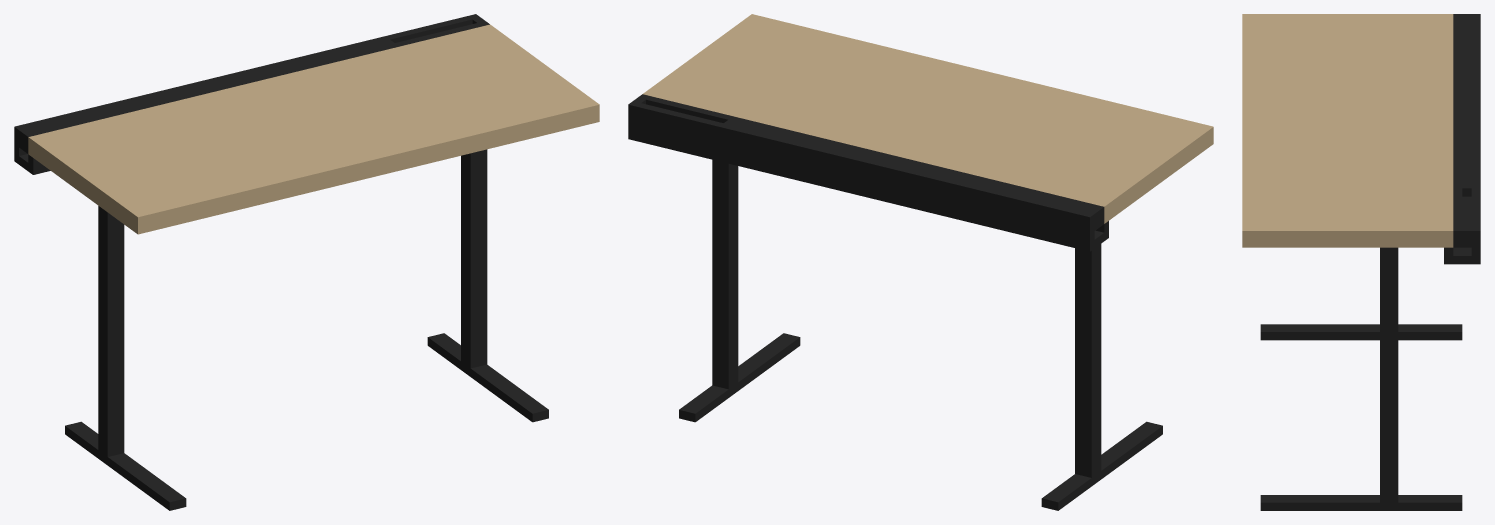
Rendered from desk.obj.
3 renders of one model, left to right at view 1: azimuth 30°, elevation 25°; view 2: azimuth 150°, elevation 25°; view 3: azimuth 270°, elevation 25°, orthographic. The views are drawn at different scales.
Size of the model in its own units: 5.6 by 3.6 by 2.6.
Materials: 1 (1 with a texture image).
